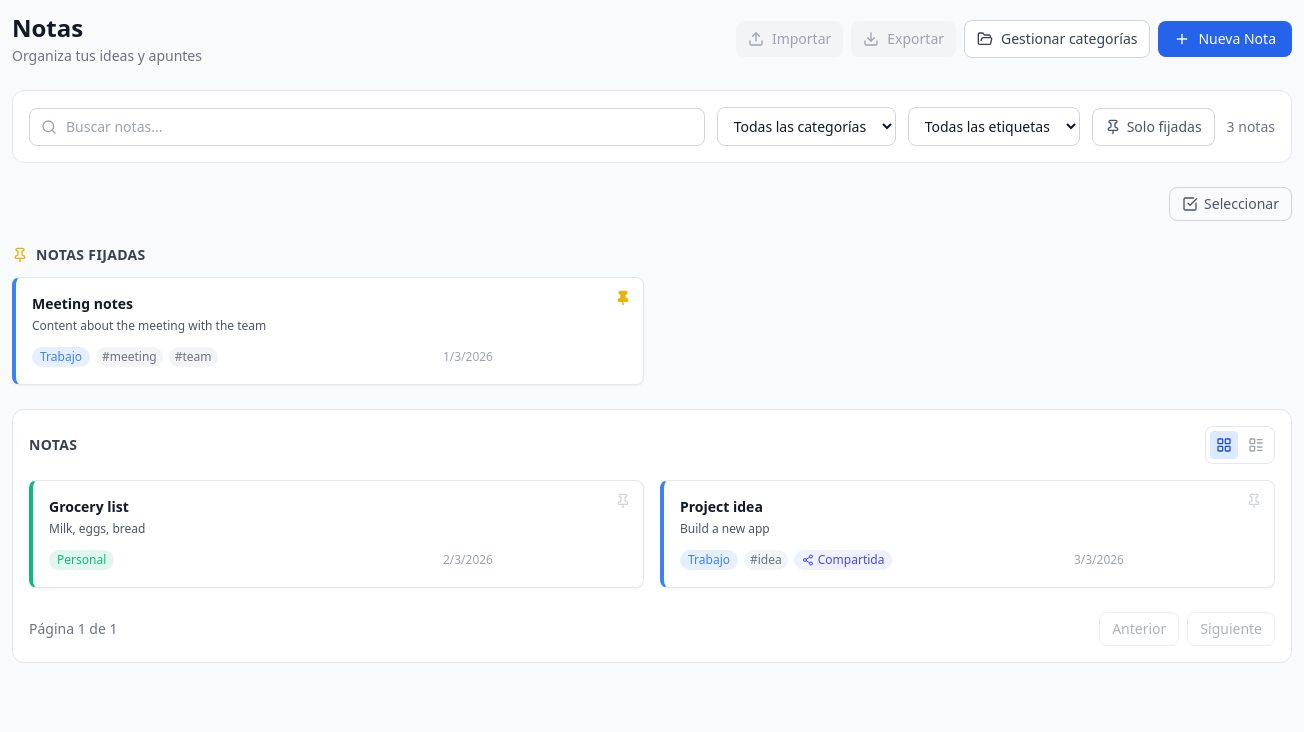
Scenario: NotesPage › filtra notas por etiqueta
Select "idea" in the dropdown named "Filtrar por etiqueta" at (994,126), box [908, 107, 1080, 146]
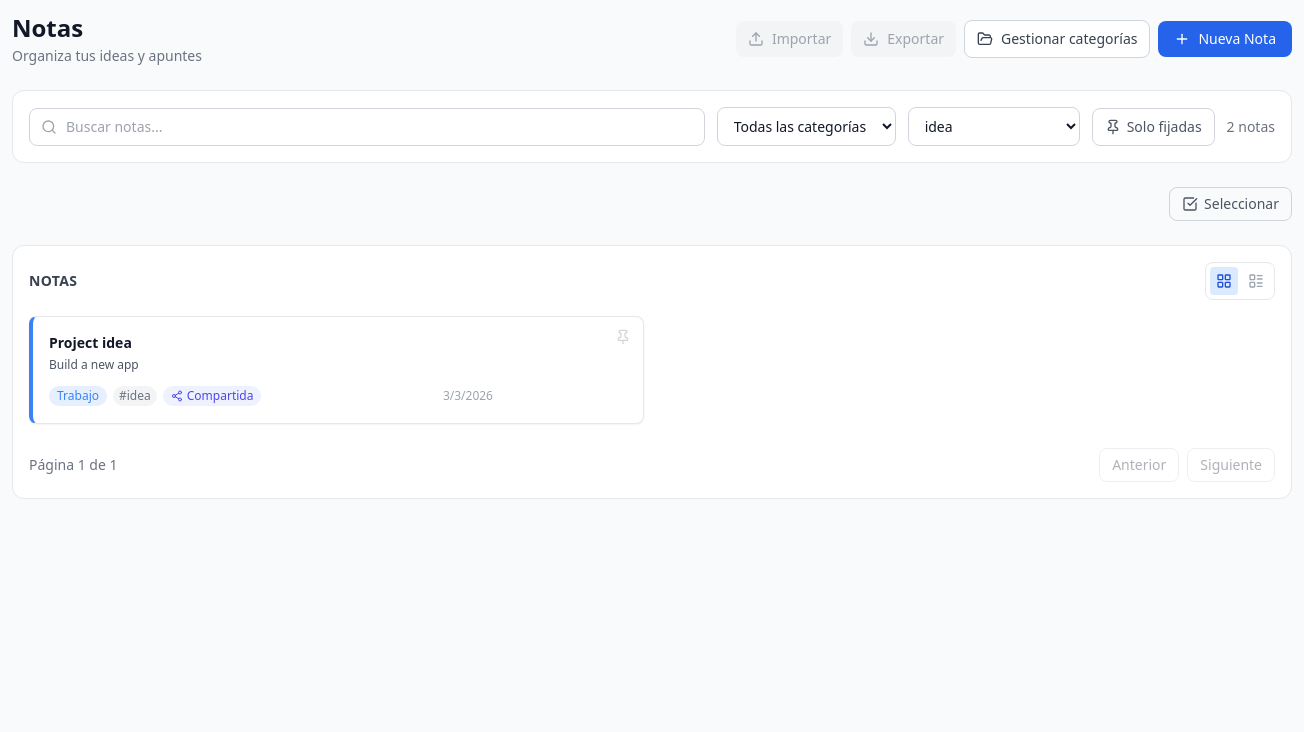
Check: the heading "Project idea" is shown, box [49, 333, 132, 352]
Check: the heading "Grocery list" is gone
